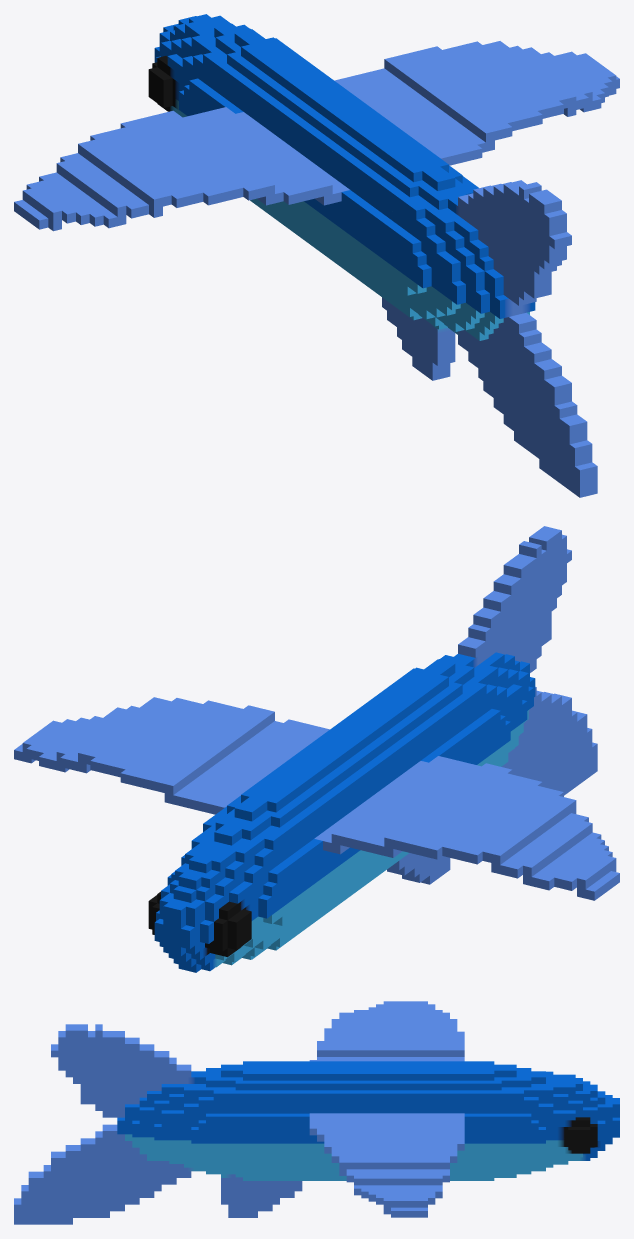
File: Flyingfish.fbx
3 renders of one model, top to bottom at view 1: azimuth 30°, elevation 25°; view 2: azimuth 150°, elevation 25°; view 3: azimuth 270°, elevation 25°, orthographic. The views are drawn at different scales.
Visible parts, largest first — view 1: Flyingfish; view 2: Flyingfish; view 3: Flyingfish.
Boxes of the visible parts, x1,y1,x2,y2 form: Flyingfish: (14, 14, 619, 497); Flyingfish: (14, 526, 619, 972); Flyingfish: (14, 1001, 619, 1224).
Bounding box in the file's own units: 66 × 29 × 82.
1 material, 1 textured.
